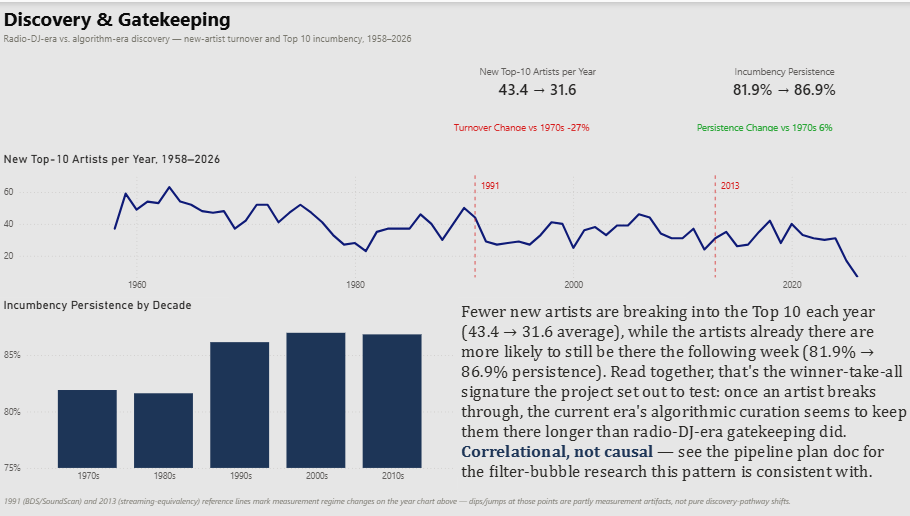

This screenshot's page, from the dashboard's own definition file:
{"tool":"powerbi","page":{"name":"Discovery & Gatekeeping","canvas":[1280,720],"ordinal":1},"visuals":[{"type":"cardVisual","fields":{"Data":["decade_metrics_summary.Turnover Trend Display"]},"box":[592.4,65.1,319.3,144.9],"z":0},{"type":"textbox","box":[0,0,592.4,90.3],"z":1000},{"type":"cardVisual","fields":{"Data":["decade_metrics_summary.Persistence Trend Display"]},"box":[933.6,64.3,330.7,145.5],"z":2000},{"type":"lineChart","title":"New Top-10 Artists per Year, 1958–2026","fields":{"Category":["new_artist_entries_by_year.year"],"Y":["Sum(new_artist_entries_by_year.new_top10_artists)"]},"box":[0,209.8,1279.4,204.1],"z":3000},{"type":"columnChart","title":"Incumbency Persistence by Decade","fields":{"Y":["Sum(decade_metrics_summary.avg_incumbency_persistence)"],"Category":["decade_metrics_summary.decade"]},"box":[0,413.9,640.6,268.3],"z":5000},{"type":"textbox","box":[640.6,413.9,638.7,268.3],"z":6000},{"type":"textbox","box":[0,682.2,1279.4,37.8],"z":7000}]}

Visuals, with their boxes in screenshot pixels (x1, y1, x2, y2), scaled from the page's 1280x720 canvas onto the 910x516 screenshot:
cardVisual - decade_metrics_summary.Turnover Trend Display: <region>421, 47, 648, 150</region>
textbox: <region>0, 0, 421, 65</region>
cardVisual - decade_metrics_summary.Persistence Trend Display: <region>664, 46, 899, 150</region>
"New Top-10 Artists per Year, 1958–2026" lineChart: <region>0, 150, 909, 297</region>
"Incumbency Persistence by Decade" columnChart: <region>0, 297, 455, 489</region>
textbox: <region>455, 297, 909, 489</region>
textbox: <region>0, 489, 909, 515</region>
